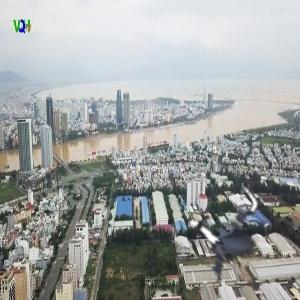drone: (177, 183, 280, 286)
